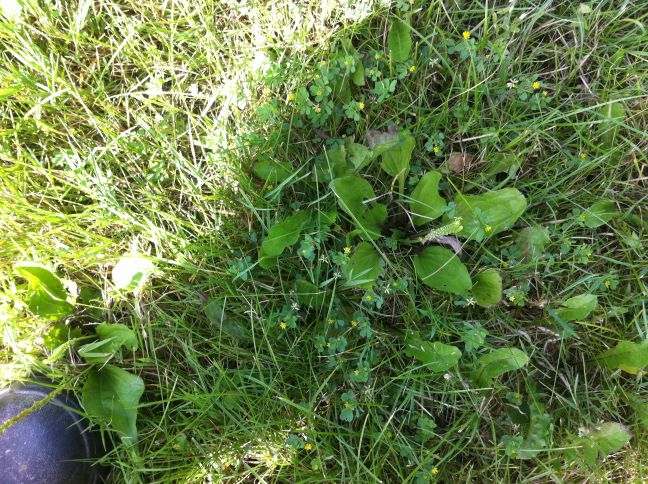weed1: (326, 127, 508, 308)
